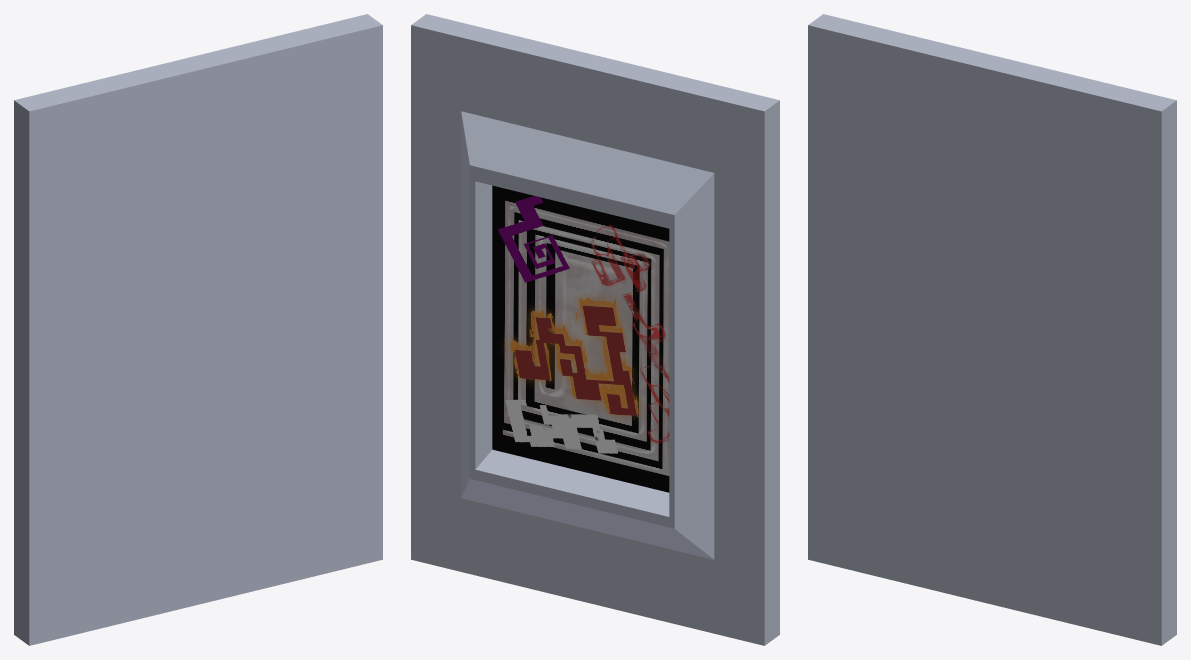
Rendered from Firepire_Art.fbx.
3 views of the same model, side by side, from view 1: azimuth 30°, elevation 25°; view 2: azimuth 150°, elevation 25°; view 3: azimuth 330°, elevation 25° (orthographic).
Visible parts, largest first — view 1: FirePire; view 2: FirePire, Image.007; view 3: FirePire.
Boxes of the visible parts, x1=… form: FirePire: x1=14, y1=14, x2=382, y2=645; FirePire: x1=411, y1=14, x2=779, y2=645; Image.007: x1=492, y1=185, x2=669, y2=492; FirePire: x1=808, y1=14, x2=1176, y2=645.
Size of the model in its own units: 867 by 1252 by 131.
2 materials, 1 textured.
